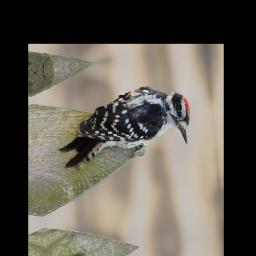Woodpecker: (54, 76, 193, 169)
